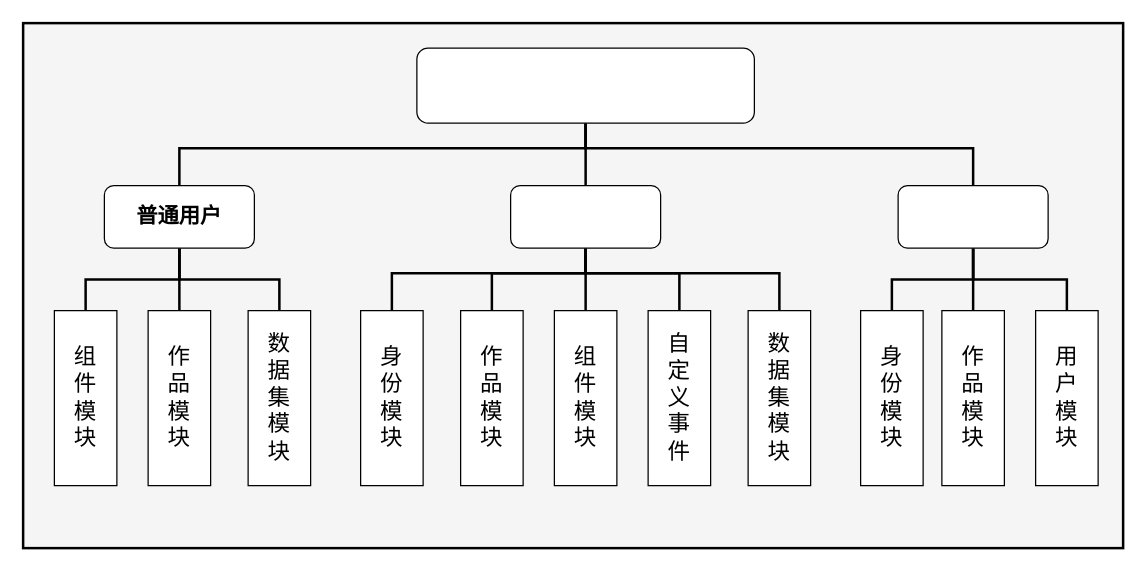
This 1145x570 diagram has some shape labels left out. The shapes that lost their labels are listed below. From the top down, each one's box as (x1, y1, x2, y2) in pixels, then its label:
(416, 47, 754, 123): 低代码页面搭建平台
(509, 184, 661, 248): 运营开发人员
(897, 184, 1048, 248): 系统管理员
